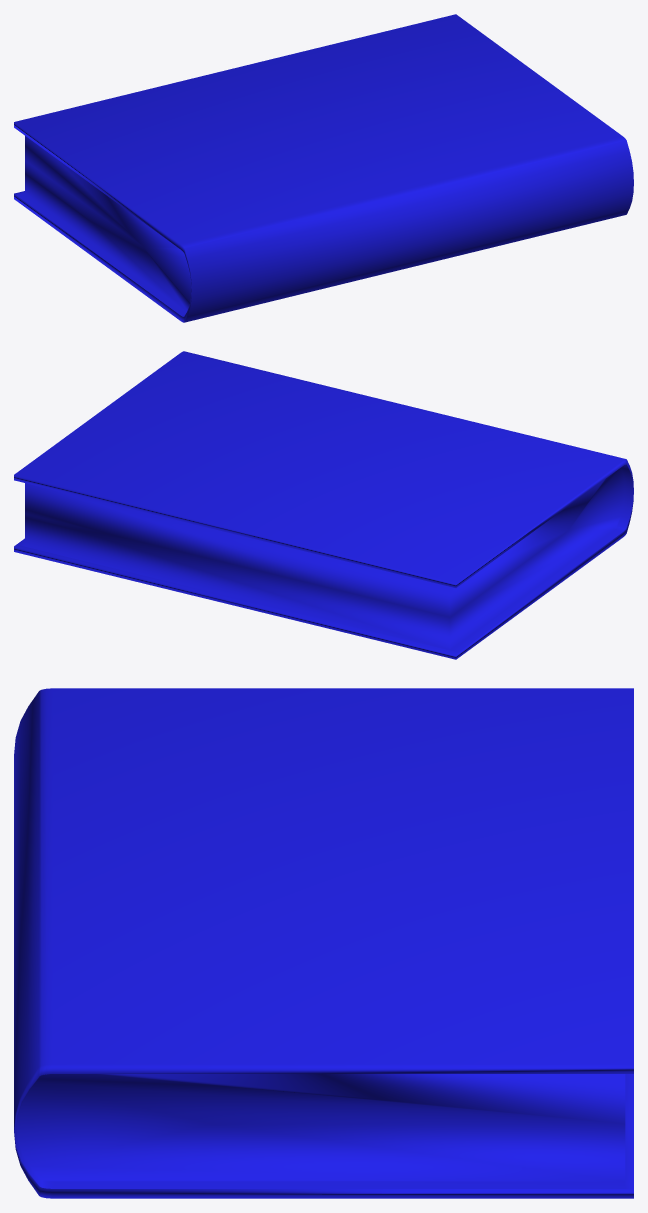
File: book.fbx
3 renders of one model, top to bottom at view 1: azimuth 30°, elevation 25°; view 2: azimuth 150°, elevation 25°; view 3: azimuth 270°, elevation 25°, orthographic. The views are drawn at different scales.
Visible parts, largest first — view 1: Llibro; view 2: Llibro; view 3: Llibro.
Part boxes in pixels (x1=…): Llibro: x1=14, y1=14, x2=633, y2=322; Llibro: x1=14, y1=351, x2=633, y2=659; Llibro: x1=14, y1=688, x2=633, y2=1198.
Size of the model in its own units: 30 by 5 by 20.91.
